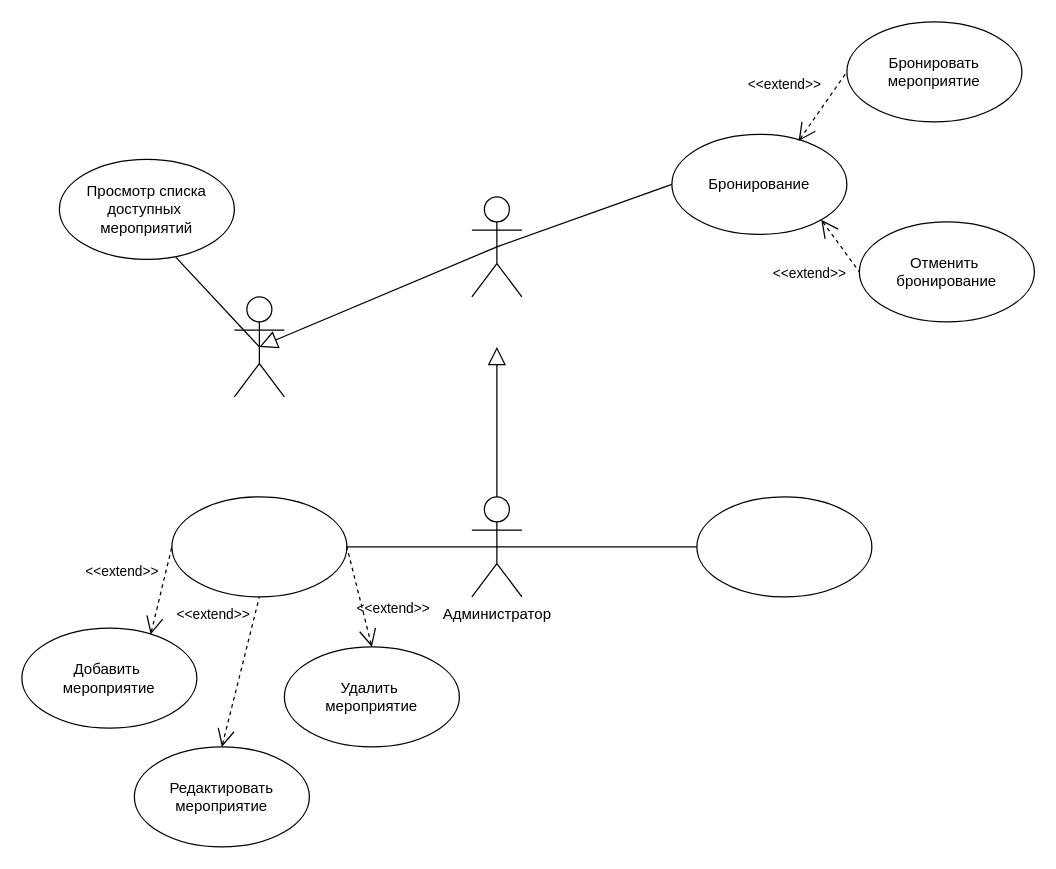
Some shapes in this 1056 by 869 pixel diagram are drawn without their labels. Each missing label, with the box of its shape:
Гость: (233, 296, 284, 397)
Зарегистрированный Пользователь: (471, 196, 522, 297)
Просмотр бронирований: (696, 496, 872, 597)
Управление мероприятиями: (171, 496, 347, 597)
